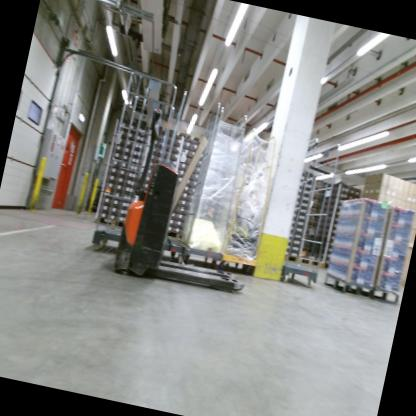pallet: (87, 207, 135, 237), (163, 225, 190, 243), (297, 254, 322, 270), (280, 246, 299, 265)
pallet_truck: (109, 94, 285, 311)
